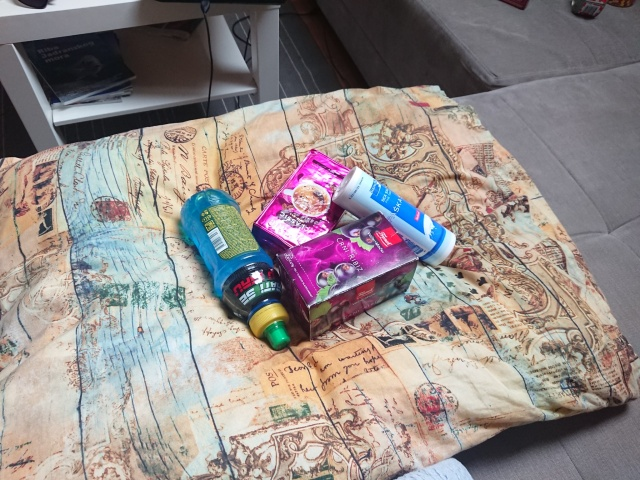Barcaffe Classic Original 225g: (249, 147, 363, 263)
Franck Black Currant Tea 60g: (270, 208, 422, 343)
Solana Pag Fine Sea Salt 250g: (330, 165, 458, 270)
Vindi Iso Sport Forest Strawberries 500mL: (177, 186, 294, 352)
